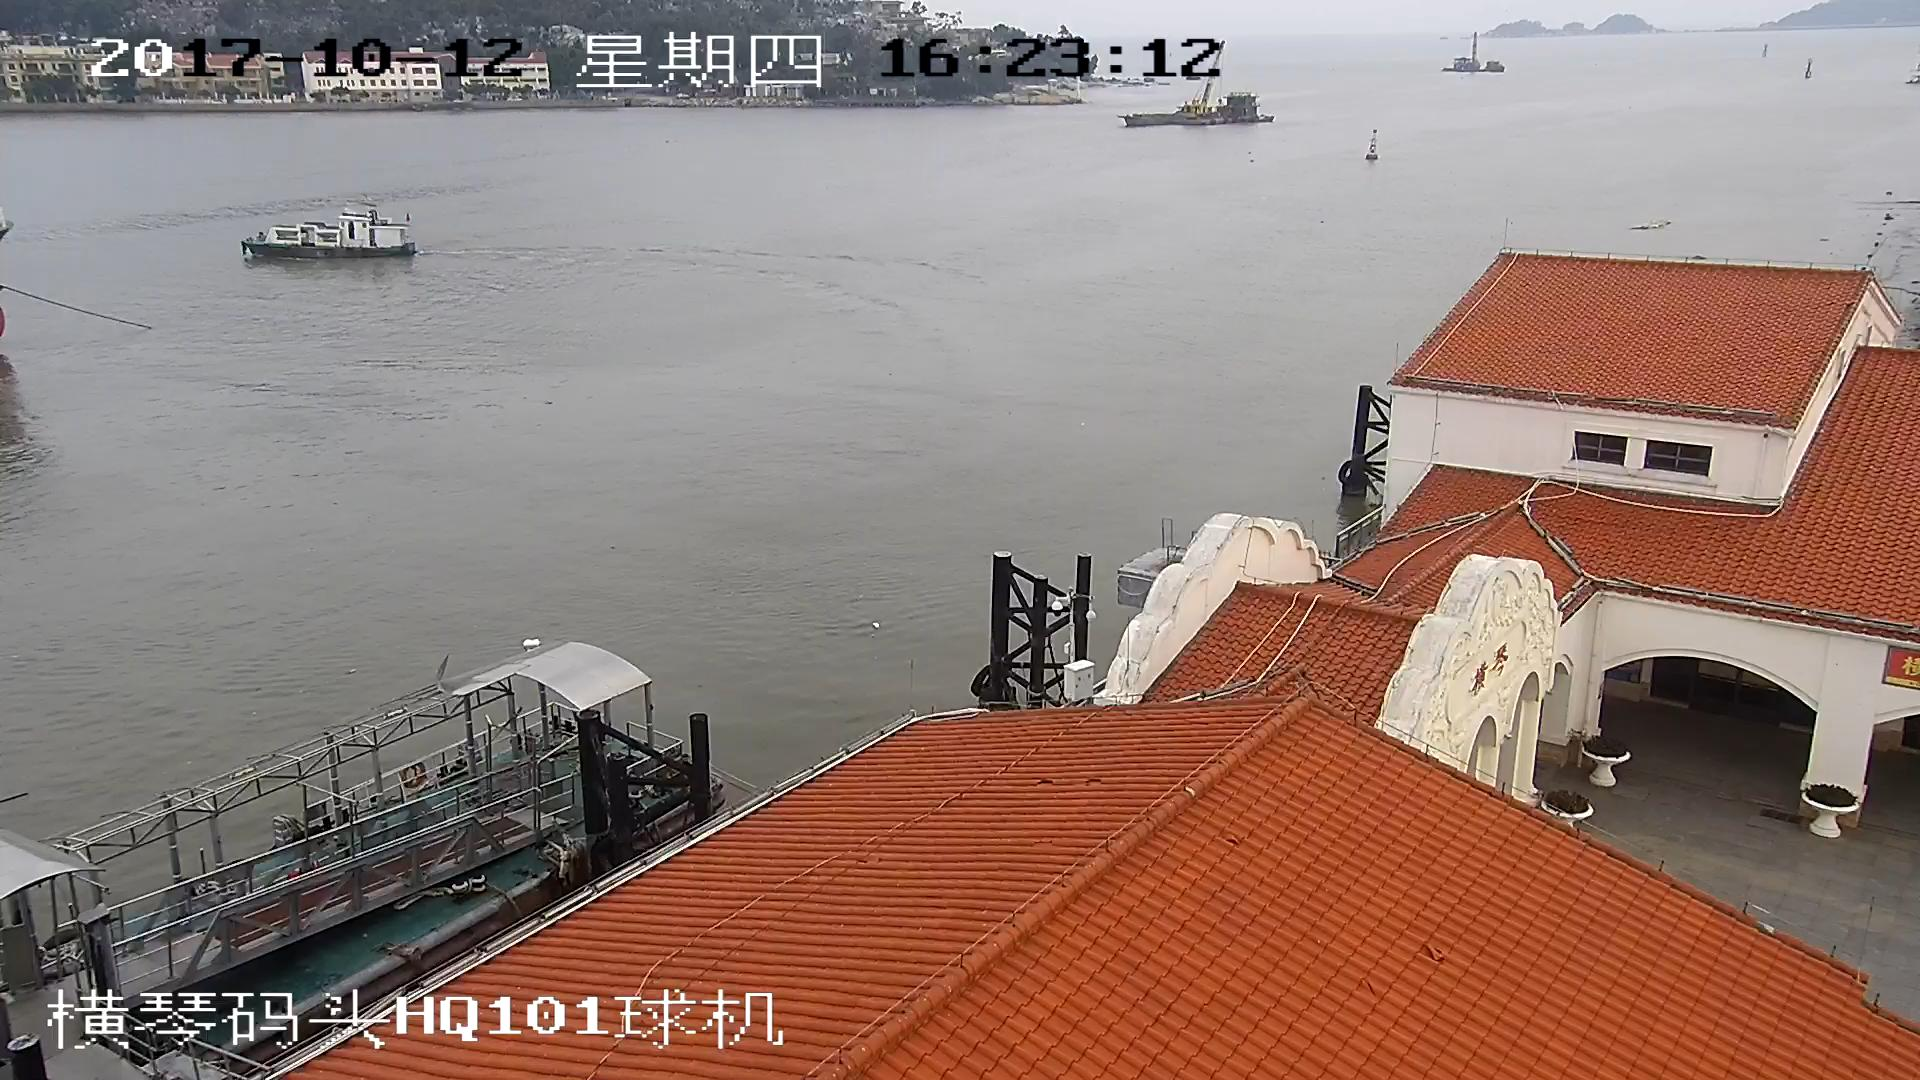fishing boat: (234, 203, 418, 260)
